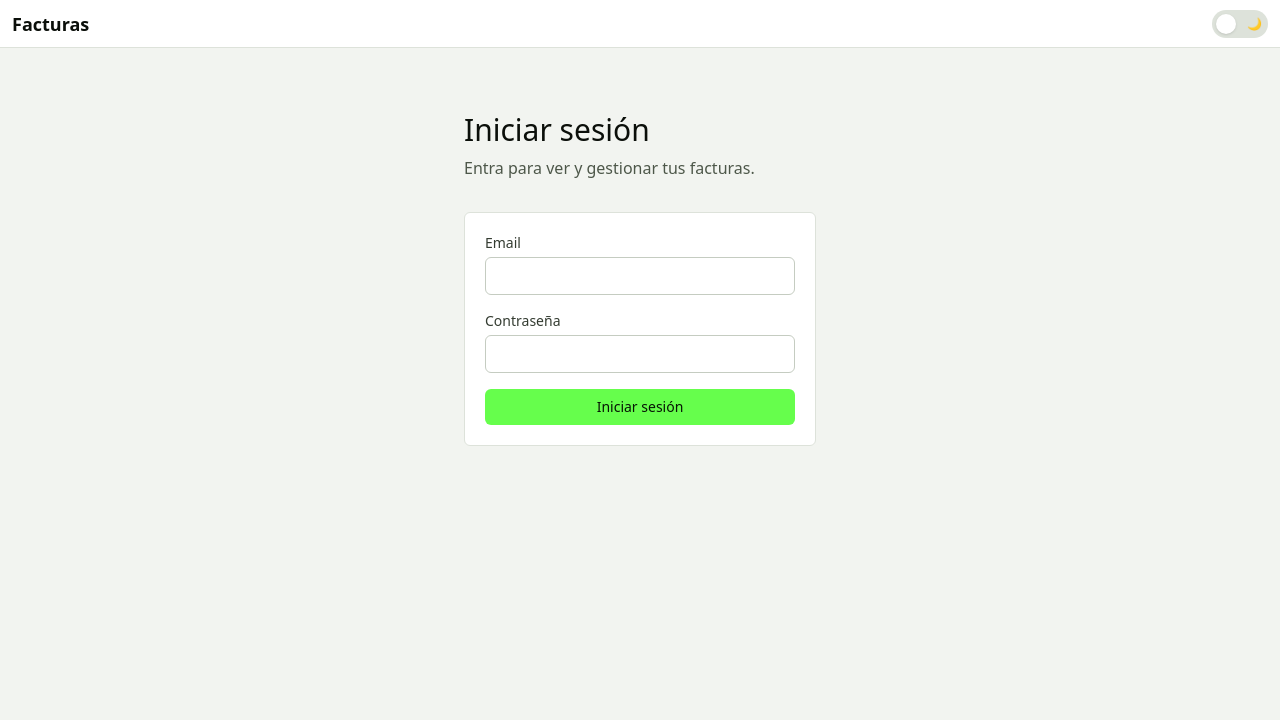
it: LoginPage › credenciales incorrectas: muestra el aviso del servidor (con la regla de bloqueo) y conserva el email
In the field labelled "Email": (640,276) [485,257,795,295], type "ana@example.com"
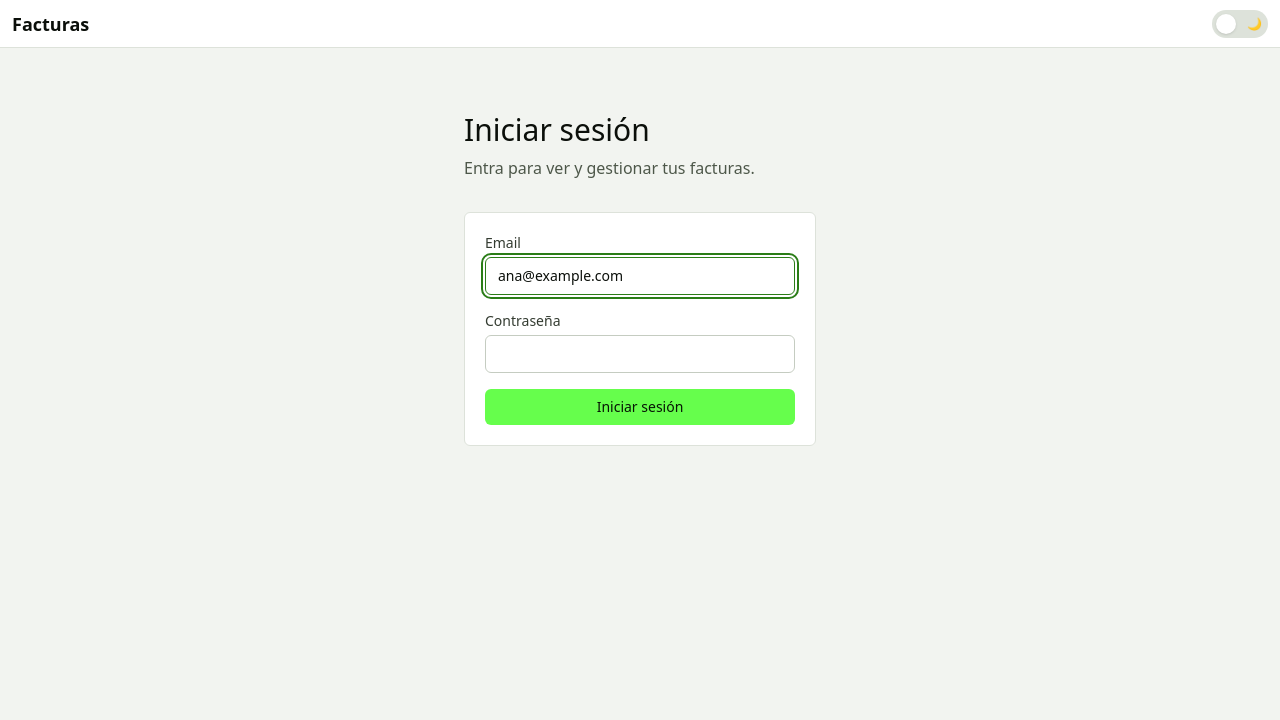
In the password field labelled "Contraseña": (640,354) [485,335,795,373], type "mala"
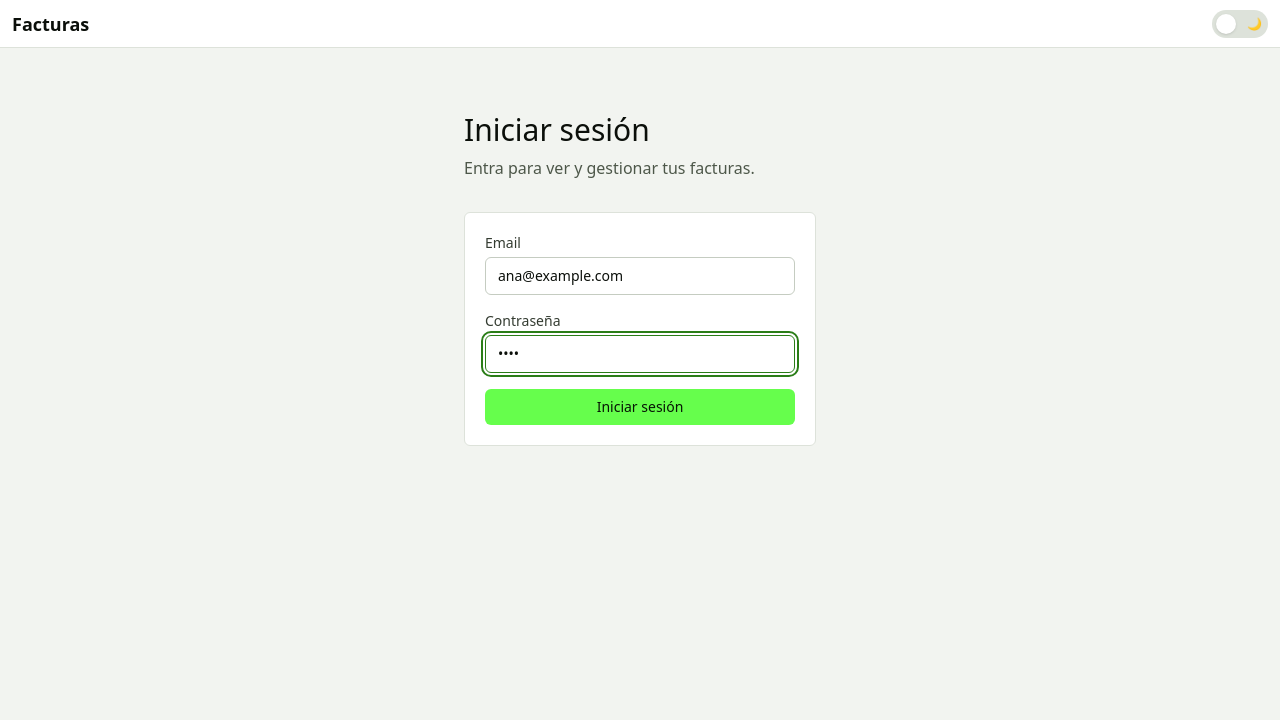
Click the button "Iniciar sesión": (640,407) [485,389,795,425]
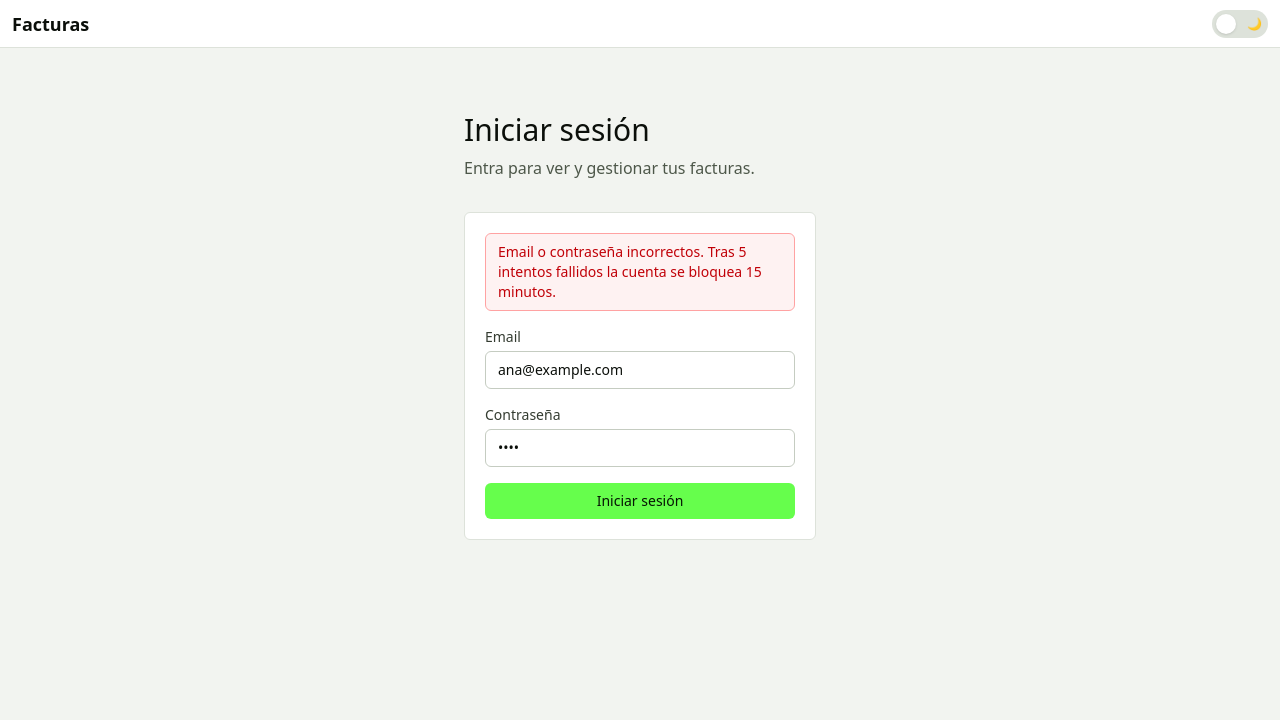
Result: the message shows "Email o contraseña incorrectos. Tras 5 intentos fallidos la cuenta se bloquea 15 minutos." at [498,242,762,301]
